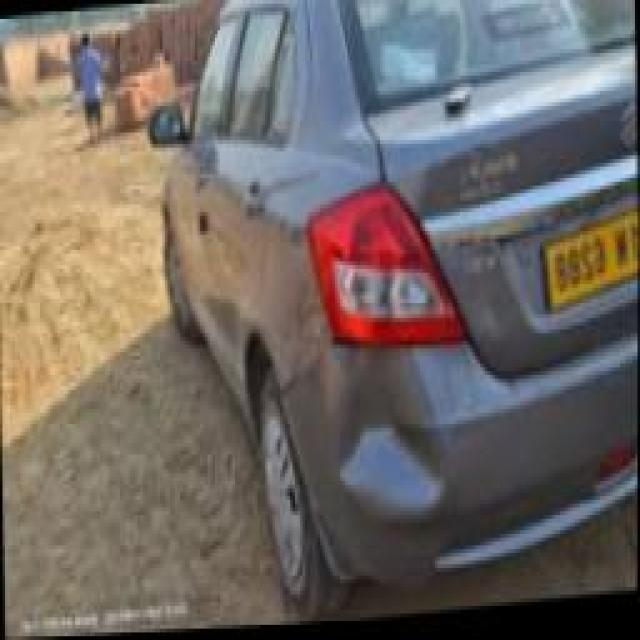Bumper: (325, 349, 503, 574)
